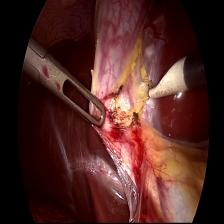Grasper: (24, 42, 106, 130)
Hook: (143, 55, 191, 100)
